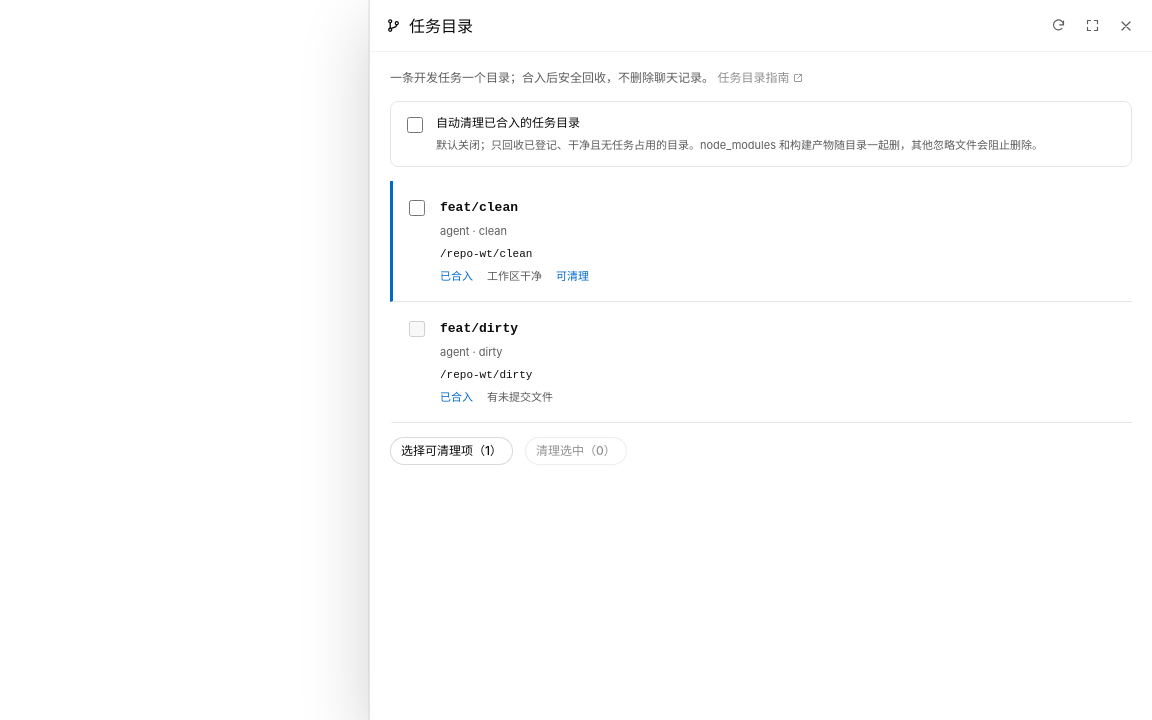
Test: WorktreePanel › invalidates a selection when a branch tip changes during review
Expected: the text "feat/clean" is shown, top-left (440, 200), bottom-right (518, 215)
Click the button "选择可清理项（1）".
click(452, 451)  # box top-left (390, 437), bottom-right (513, 465)
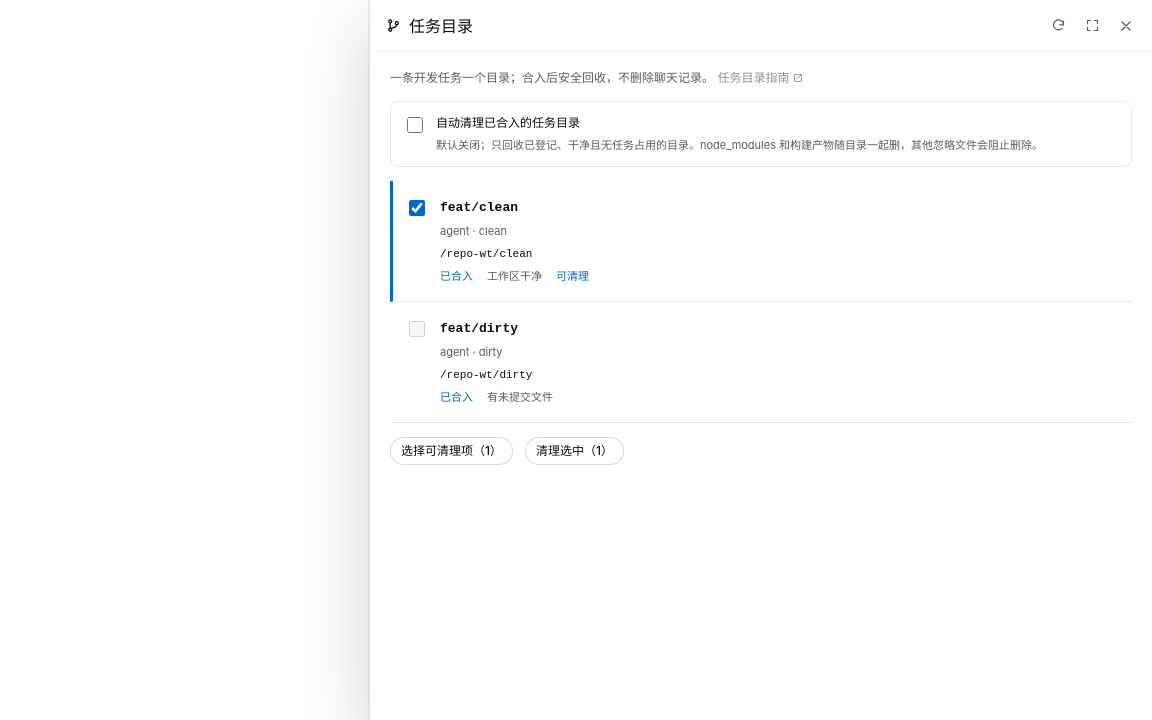
Click the button "清理选中（1）".
click(574, 451)  # box top-left (525, 437), bottom-right (624, 465)
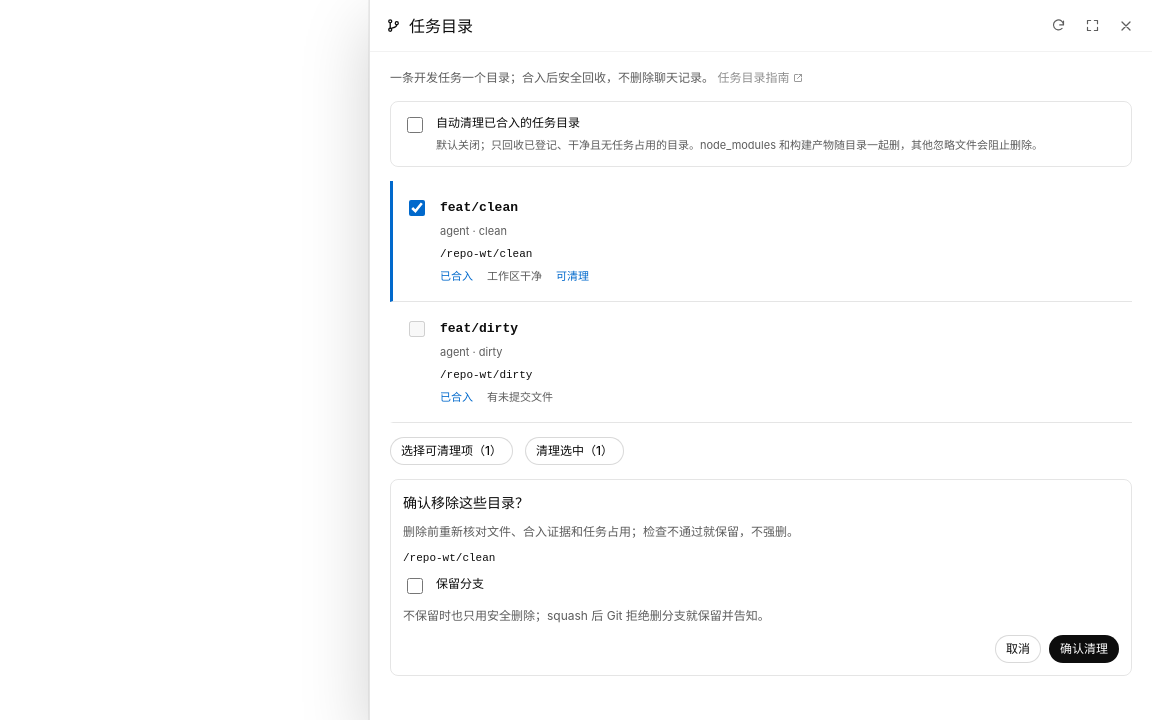
Click the button named "刷新".
click(1058, 26)  # box top-left (1042, 10), bottom-right (1074, 42)
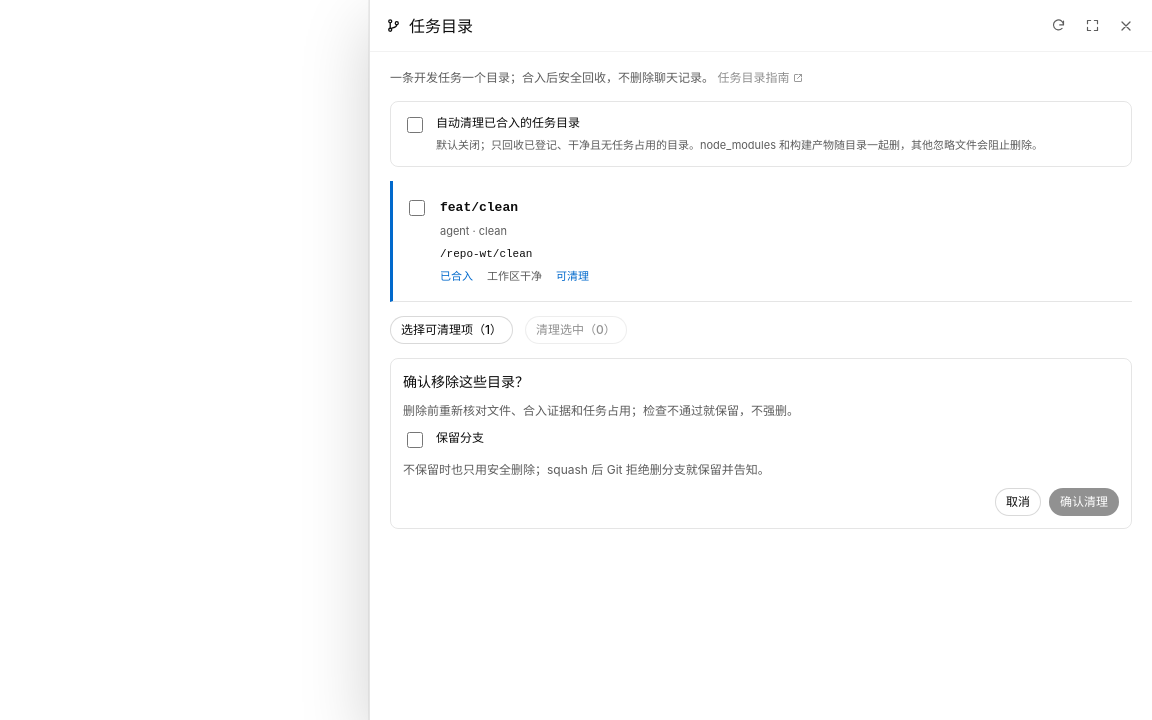
Expected: the button "确认清理" is disabled, top-left (1049, 488), bottom-right (1119, 516)
